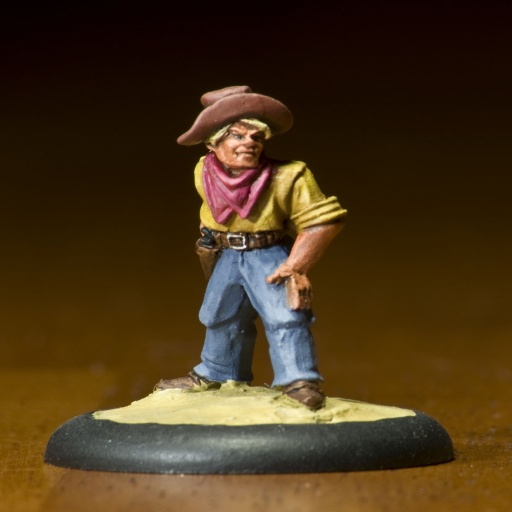hand: (264, 265, 313, 312)
